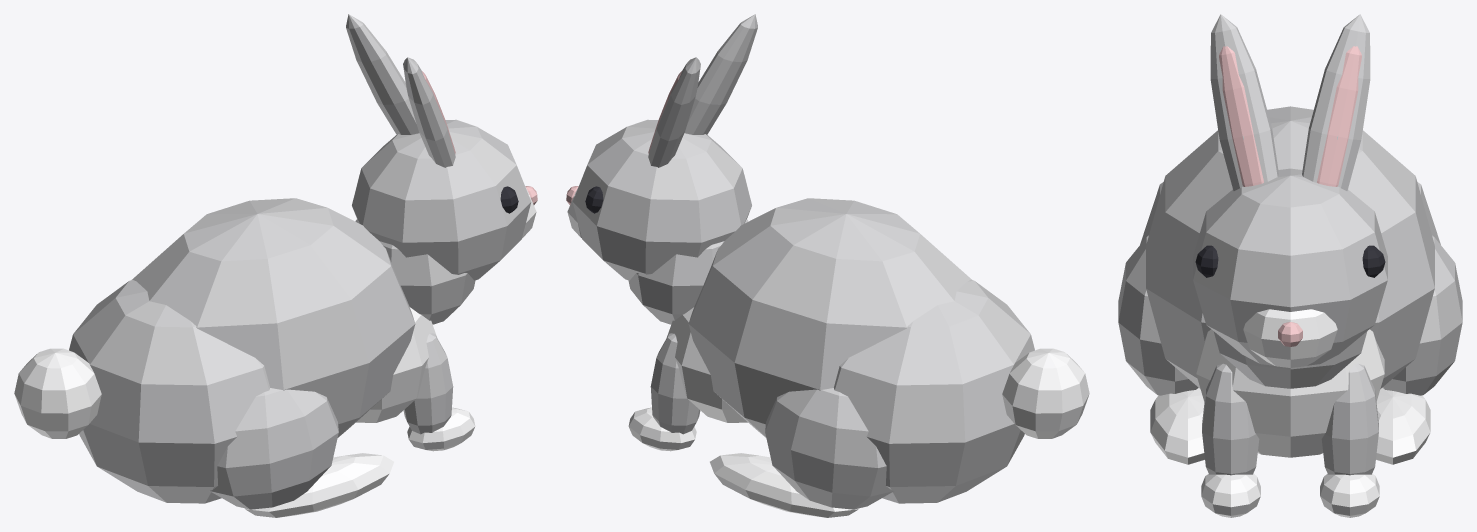
Rendered from animal_rabbit.glb.
3 views of the same model, side by side, from view 1: azimuth 30°, elevation 25°; view 2: azimuth 150°, elevation 25°; view 3: azimuth 270°, elevation 25° (orthographic). The views are drawn at different scales.
Visible parts, largest first — view 1: Tav_Govde, Tav_Sagri, Tav_Kafa, Tav_But_-1, Tav_Kuyruk, Tav_ArkAyak_-1, Tav_Boyun, Tav_Kulak_L, Tav_OnBacak_-1, Tav_Gogus, Tav_Kulak_R, Tav_OnPati_-1; view 2: Tav_Govde, Tav_Sagri, Tav_Kafa, Tav_But_1, Tav_Kuyruk, Tav_ArkAyak_1, Tav_Boyun, Tav_Kulak_R, Tav_OnBacak_1, Tav_Gogus, Tav_Kulak_L, Tav_OnPati_1; view 3: Tav_Govde, Tav_Kafa, Tav_Gogus, Tav_But_-1, Tav_But_1, Tav_Kulak_L, Tav_Kulak_R, Tav_OnBacak_-1, Tav_OnBacak_1, Tav_Burun, Tav_ArkAyak_-1, Tav_ArkAyak_1 (+9 smaller).
Boxes of the visible parts, left/top/right/bottom form: Tav_Govde: left=132, top=198, right=415, bottom=437; Tav_Sagri: left=69, top=279, right=269, bottom=503; Tav_Kafa: left=352, top=119, right=531, bottom=280; Tav_But_-1: left=210, top=388, right=338, bottom=509; Tav_Kuyruk: left=14, top=348, right=101, bottom=438; Tav_ArkAyak_-1: left=245, top=453, right=393, bottom=517; Tav_Boyun: left=355, top=219, right=475, bottom=324; Tav_Kulak_L: left=346, top=14, right=419, bottom=134; Tav_OnBacak_-1: left=403, top=333, right=453, bottom=434; Tav_Gogus: left=356, top=307, right=437, bottom=422; Tav_Kulak_R: left=403, top=57, right=455, bottom=167; Tav_OnPati_-1: left=407, top=407, right=475, bottom=451; Tav_Govde: left=688, top=198, right=971, bottom=437; Tav_Sagri: left=834, top=279, right=1034, bottom=503; Tav_Kafa: left=572, top=119, right=751, bottom=280; Tav_But_1: left=765, top=388, right=893, bottom=509; Tav_Kuyruk: left=1002, top=348, right=1089, bottom=438; Tav_ArkAyak_1: left=710, top=453, right=858, bottom=517; Tav_Boyun: left=628, top=219, right=748, bottom=324; Tav_Kulak_R: left=684, top=14, right=757, bottom=134; Tav_OnBacak_1: left=650, top=333, right=700, bottom=434; Tav_Gogus: left=666, top=307, right=747, bottom=422; Tav_Kulak_L: left=648, top=57, right=700, bottom=167; Tav_OnPati_1: left=628, top=407, right=696, bottom=451; Tav_Govde: left=1146, top=106, right=1434, bottom=388; Tav_Kafa: left=1193, top=168, right=1387, bottom=365; Tav_Gogus: left=1196, top=329, right=1384, bottom=457; Tav_But_-1: left=1118, top=235, right=1198, bottom=395; Tav_But_1: left=1382, top=235, right=1462, bottom=395; Tav_Kulak_L: left=1302, top=14, right=1370, bottom=190; Tav_Kulak_R: left=1210, top=14, right=1278, bottom=190; Tav_OnBacak_-1: left=1202, top=363, right=1259, bottom=475; Tav_OnBacak_1: left=1321, top=363, right=1378, bottom=475; Tav_Burun: left=1243, top=309, right=1337, bottom=367; Tav_ArkAyak_-1: left=1150, top=388, right=1204, bottom=464; Tav_ArkAyak_1: left=1376, top=388, right=1430, bottom=464.
Bounding box in the file's own units: 4.27 × 3.27 × 2.08.
